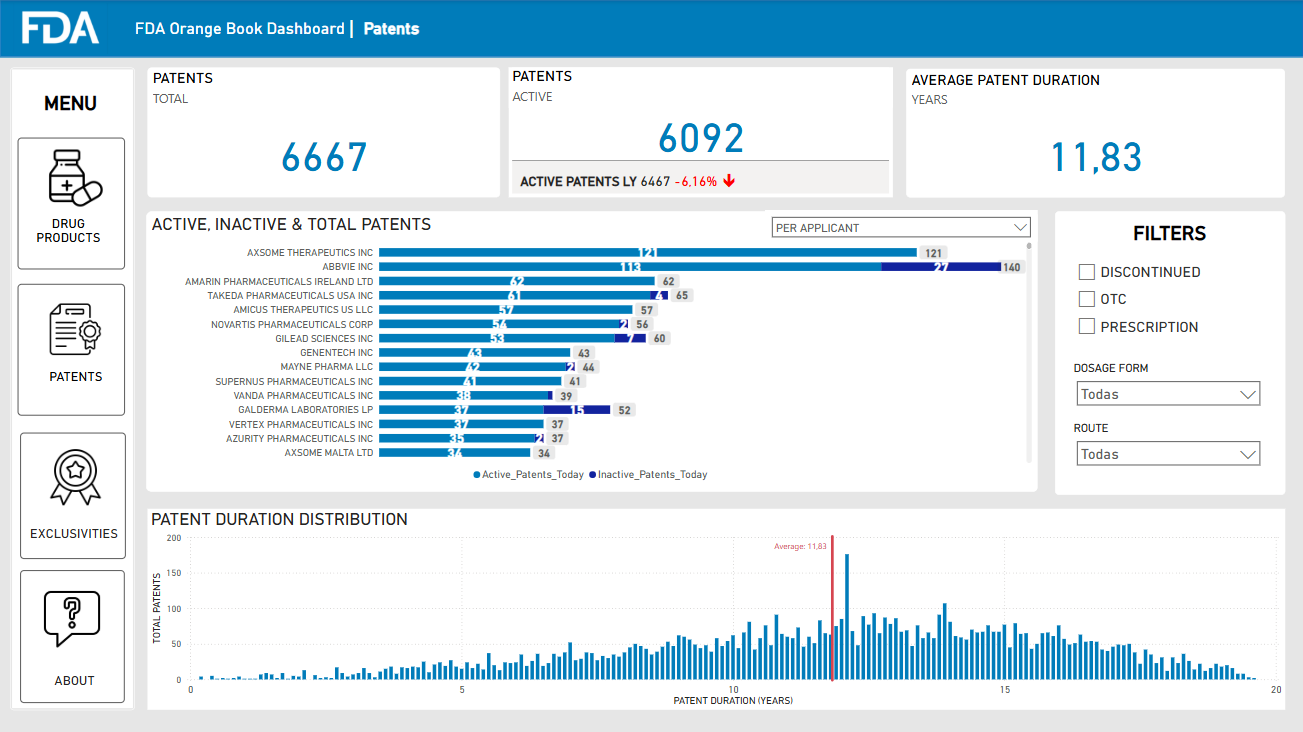

What the dashboard file says about the page in this screenshot:
{"tool":"powerbi","page":{"name":"Patents","canvas":[1920,1080],"ordinal":1},"visuals":[{"type":"shape","box":[216.9,311.5,1310.5,413],"z":0},{"type":"shape","box":[14,100,184,946],"z":1000},{"type":"shape","box":[1552.7,311.5,339.2,417.6],"z":2000},{"type":"image","box":[62,216,98,94],"z":3000},{"type":"textbox","box":[4,312,194,66],"z":4000},{"type":"textbox","box":[24,770,170,50],"z":5000},{"type":"textbox","box":[36.4,130,134,44],"z":6000},{"type":"card","title":"PATENTS","fields":{"Values":["My_Measures.Total_Patents"]},"box":[216.9,99.2,519.1,191.5],"z":7000},{"type":"card","title":"AVERAGE PATENT DURATION","fields":{"Values":["My_Measures.Average_Patent_Duration"]},"box":[1334.4,101.2,557.7,189.6],"z":8000},{"type":"slicer","title":"DRUG PRODUCT","fields":{"Values":["Products.Type"]},"box":[1576,376,290,140],"z":9000},{"type":"textbox","box":[1636,322,172,48],"z":10000},{"type":"shape","box":[26,202,158,194],"z":12000},{"type":"shape","box":[0,0,1919.6,84.7],"z":13000},{"type":"shape","box":[26,418,158,194],"z":14000},{"type":"shape","box":[30,636,156,186],"z":15000},{"type":"shape","box":[30,840,154,196],"z":16000},{"type":"textbox","box":[194,14,1198,56],"z":17000},{"type":"image","box":[0,0,178,84],"z":18000},{"type":"image","box":[68,438,86,94],"z":19000},{"type":"textbox","box":[14,540,194,50],"z":20000},{"type":"image","box":[64,656,94,94],"z":21000},{"type":"image","box":[50,858,112,108],"z":22000},{"type":"textbox","box":[26,986,168,50],"z":23000},{"type":"cardVisual","title":"PATENTS","fields":{"Data":["My_Measures.Active_Patents_Today"]},"box":[749.8,99.2,565.3,191.5],"z":24000},{"type":"barChart","title":"ACTIVE, INACTIVE & TOTAL PATENTS","fields":{"Category":["Products.Applicant_Full_Name"],"Y":["My_Measures.Active_Patents_Today","My_Measures.Inactive_Patents_Today"]},"box":[215.3,312.9,1312.3,410.4],"z":25000},{"type":"clusteredColumnChart","title":"PATENT DURATION DISTRIBUTION","fields":{"Category":["Patents.Patent_Duration_Years"],"Y":["My_Measures.Total_Patents"]},"box":[217.2,749.1,1674.9,296.3],"z":26000},{"type":"slicer","title":"DOSAGE FORM","fields":{"Values":["Products.Dosage_Form"]},"box":[1576,532,290,76],"z":27000},{"type":"slicer","title":"ROUTE","fields":{"Values":["Products.Route"]},"box":[1576,620,290,70],"z":28000},{"type":"slicer","fields":{"Values":["Parameter_2.Parameter_2"]},"box":[1126.4,309.2,401.2,46],"z":29000},{"type":"pageNavigator","box":[14.7,202.5,184.1,842.9],"z":30000}]}

Visuals, with their boxes in screenshot pixels (x1, y1, x2, y2), scaled from the page's 1920x1080 canvas onto the 1303x732 screenshot:
shape: Rect(147, 211, 1037, 491)
shape: Rect(10, 68, 134, 709)
shape: Rect(1054, 211, 1284, 494)
image: Rect(42, 146, 109, 210)
textbox: Rect(3, 211, 134, 256)
textbox: Rect(16, 522, 132, 556)
textbox: Rect(25, 88, 116, 118)
"PATENTS" card: Rect(147, 67, 499, 197)
"AVERAGE PATENT DURATION" card: Rect(906, 69, 1284, 197)
"DRUG PRODUCT" slicer: Rect(1070, 255, 1266, 350)
textbox: Rect(1110, 218, 1227, 251)
shape: Rect(18, 137, 125, 268)
shape: Rect(0, 0, 1302, 57)
shape: Rect(18, 283, 125, 415)
shape: Rect(20, 431, 126, 557)
shape: Rect(20, 569, 125, 702)
textbox: Rect(132, 9, 945, 47)
image: Rect(0, 0, 121, 57)
image: Rect(46, 297, 105, 361)
textbox: Rect(10, 366, 141, 400)
image: Rect(43, 445, 107, 508)
image: Rect(34, 582, 110, 655)
textbox: Rect(18, 668, 132, 702)
"PATENTS" cardVisual: Rect(509, 67, 892, 197)
"ACTIVE, INACTIVE & TOTAL PATENTS" barChart: Rect(146, 212, 1037, 490)
"PATENT DURATION DISTRIBUTION" clusteredColumnChart: Rect(147, 508, 1284, 709)
"DOSAGE FORM" slicer: Rect(1070, 361, 1266, 412)
"ROUTE" slicer: Rect(1070, 420, 1266, 468)
slicer - Parameter_2.Parameter_2: Rect(764, 210, 1037, 241)
pageNavigator: Rect(10, 137, 135, 709)
